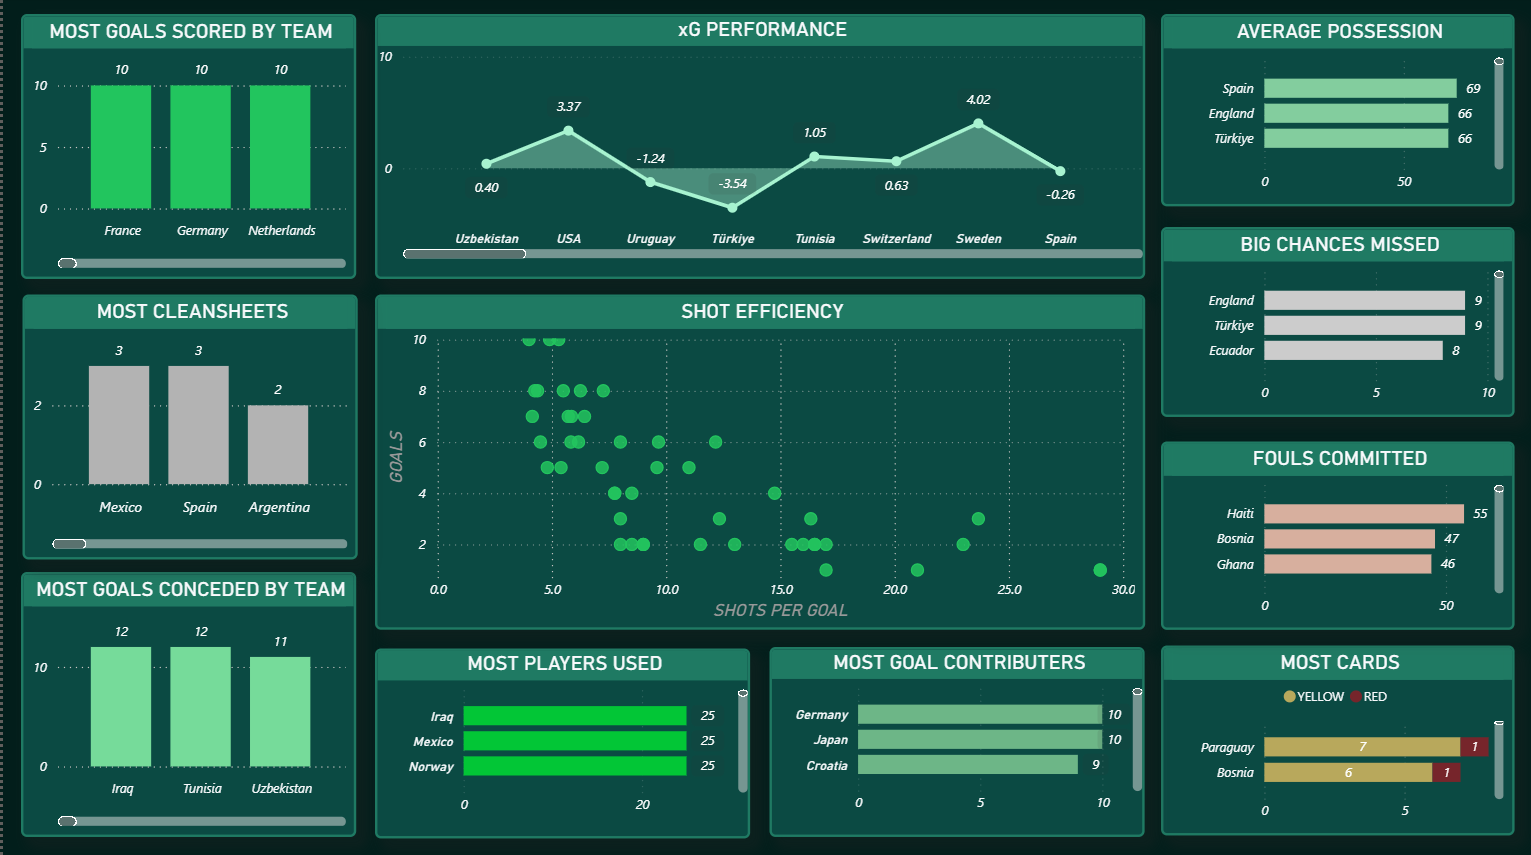

What the dashboard file says about the page in this screenshot:
{"tool":"powerbi","page":{"name":"Team Stats","canvas":[1280,720],"ordinal":1},"visuals":[{"type":"lineChart","title":"xG PERFORMANCE","fields":{"Category":["wc2026 teamstats.TEAM"],"Y":["wc2026 teamstats.xGdiffrence"]},"box":[310.4,15.1,643.5,221.1],"z":0},{"type":"scatterChart","title":"SHOT EFFICIENCY","fields":{"Y":["Sum(wc2026 teamstats.GOALS)"],"Category":["wc2026 teamstats.TEAM"],"X":["wc2026 teamstats.SHOTEFFICIENCY"]},"box":[310.4,249.8,643.5,280.1],"z":1000},{"type":"barChart","title":"MOST CARDS","fields":{"Category":["wc2026 teamstats.TEAM"],"Y":["Sum(wc2026 teamstats.YELLOW_C)","Sum(wc2026 teamstats.RED_C)"]},"box":[967.6,542.9,295.3,159],"z":2000},{"type":"clusteredBarChart","title":"BIG CHANCES MISSED","fields":{"Category":["wc2026 teamstats.TEAM"],"Y":["Sum(wc2026 teamstats.BCM)"]},"box":[967.6,193.5,295.3,159],"z":3000},{"type":"clusteredBarChart","title":"FOULS COMMITTED","fields":{"Category":["wc2026 teamstats.TEAM"],"Y":["Sum(wc2026 teamstats.FOULS)"]},"box":[967.6,371.8,295.3,157.5],"z":4000},{"type":"clusteredBarChart","title":"AVERAGE POSSESSION","fields":{"Category":["wc2026 teamstats.TEAM"],"Y":["Sum(wc2026 teamstats.AVG_POS)"]},"box":[967.6,15.1,295.3,160.5],"z":5000},{"type":"clusteredColumnChart","title":"MOST GOALS SCORED BY TEAM","fields":{"Category":["wc2026 goals.scored_for"],"Y":["CountNonNull(wc2026 goals.goal_no)"]},"box":[15.1,15.1,280.1,221.1],"z":6000},{"type":"clusteredColumnChart","title":"MOST GOALS CONCEDED BY TEAM","fields":{"Category":["wc2026 goals.scored_ag"],"Y":["CountNonNull(wc2026 goals.goal_no)"]},"box":[15.1,481.5,280.1,221.1],"z":7000},{"type":"clusteredColumnChart","title":"MOST CLEANSHEETS","fields":{"Category":["wc2026 most_cleansheets.team"],"Y":["Sum(wc2026 most_cleansheets.CS)"]},"box":[16.7,249.8,280.1,221.1],"z":8000},{"type":"clusteredBarChart","title":"MOST PLAYERS USED","fields":{"Category":["wc2026 playersstats.TEAM"],"Y":["CountNonNull(wc2026 playersstats.PLAYER)"]},"box":[310.4,545.1,313.4,159],"z":9000},{"type":"clusteredBarChart","title":"MOST GOAL CONTRIBUTERS","fields":{"Category":["wc2026 playersstats.TEAM"],"Y":["CountNonNull(wc2026 playersstats.PLAYER)"]},"box":[640.5,543.6,313.4,159],"z":10000}]}

Visuals, with their boxes in screenshot pixels (x1, y1, x2, y2), scaled from the page's 1280x720 canvas onto the 1531x855 screenshot:
"xG PERFORMANCE" lineChart: [left=371, top=18, right=1141, bottom=280]
"SHOT EFFICIENCY" scatterChart: [left=371, top=297, right=1141, bottom=629]
"MOST CARDS" barChart: [left=1157, top=645, right=1511, bottom=834]
"BIG CHANCES MISSED" clusteredBarChart: [left=1157, top=230, right=1511, bottom=419]
"FOULS COMMITTED" clusteredBarChart: [left=1157, top=442, right=1511, bottom=629]
"AVERAGE POSSESSION" clusteredBarChart: [left=1157, top=18, right=1511, bottom=209]
"MOST GOALS SCORED BY TEAM" clusteredColumnChart: [left=18, top=18, right=353, bottom=280]
"MOST GOALS CONCEDED BY TEAM" clusteredColumnChart: [left=18, top=572, right=353, bottom=834]
"MOST CLEANSHEETS" clusteredColumnChart: [left=20, top=297, right=355, bottom=559]
"MOST PLAYERS USED" clusteredBarChart: [left=371, top=647, right=746, bottom=836]
"MOST GOAL CONTRIBUTERS" clusteredBarChart: [left=766, top=646, right=1141, bottom=834]
